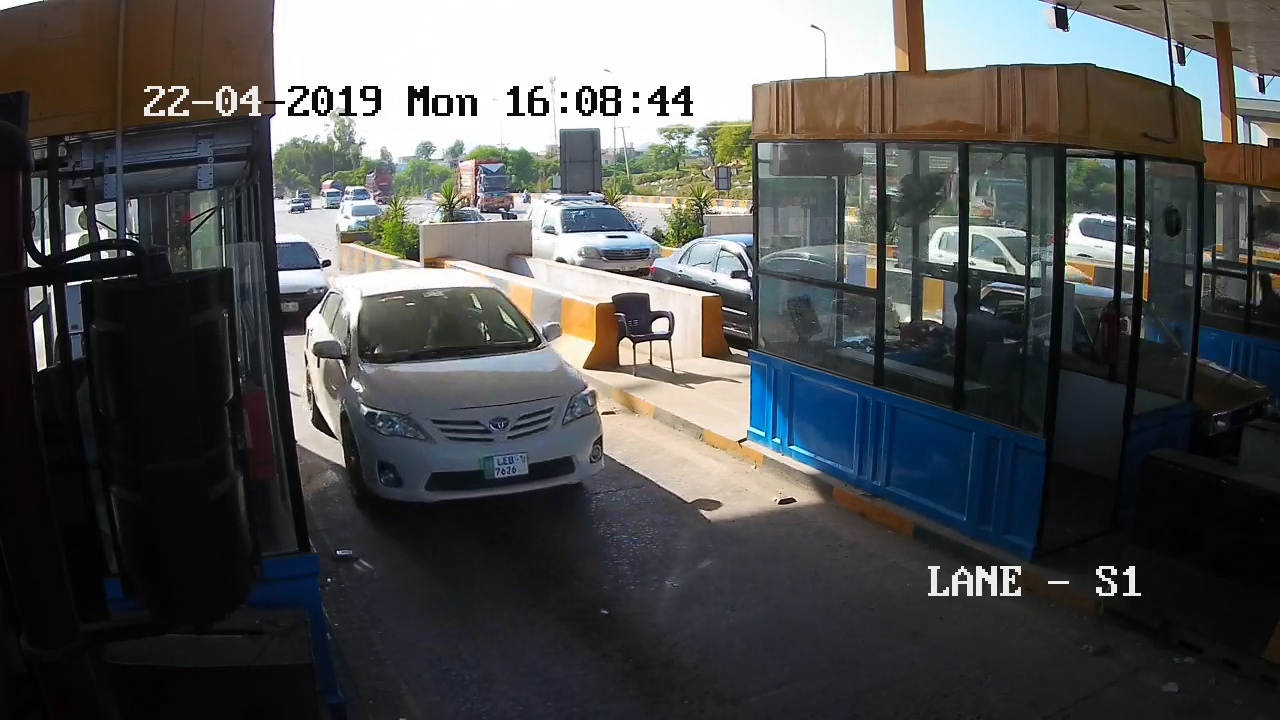Number Plate (Car): (482, 453, 529, 478), (280, 302, 297, 311)
